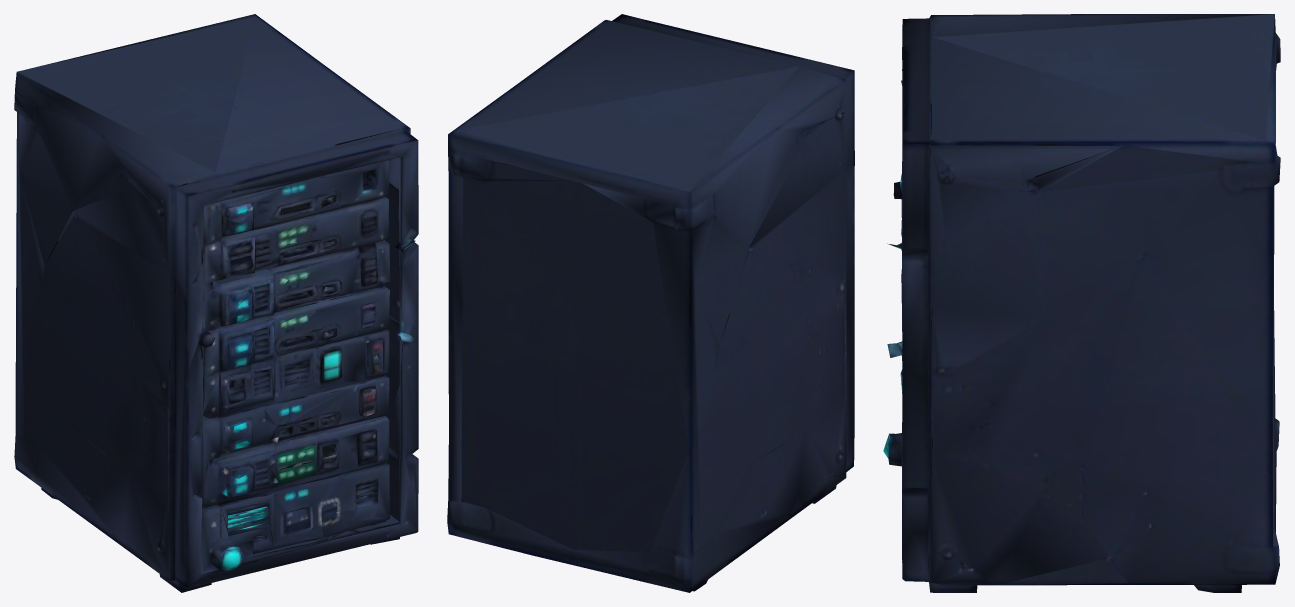
The model's file is server_rack.glb.
The picture shows the model from 3 angles, left to right: view 1: azimuth 30°, elevation 25°; view 2: azimuth 150°, elevation 25°; view 3: azimuth 270°, elevation 25°; orthographic projection. The views are drawn at different scales.
Visible parts, largest first — view 1: low; view 2: low; view 3: low.
Boxes of the visible parts, x1,y1,x2,y2 form: low: (14, 14, 418, 592); low: (447, 14, 854, 592); low: (883, 14, 1280, 592).
Size of the model in its own units: 0.6197 by 0.9802 by 0.7733.
Materials: 1 (1 with a texture image).
